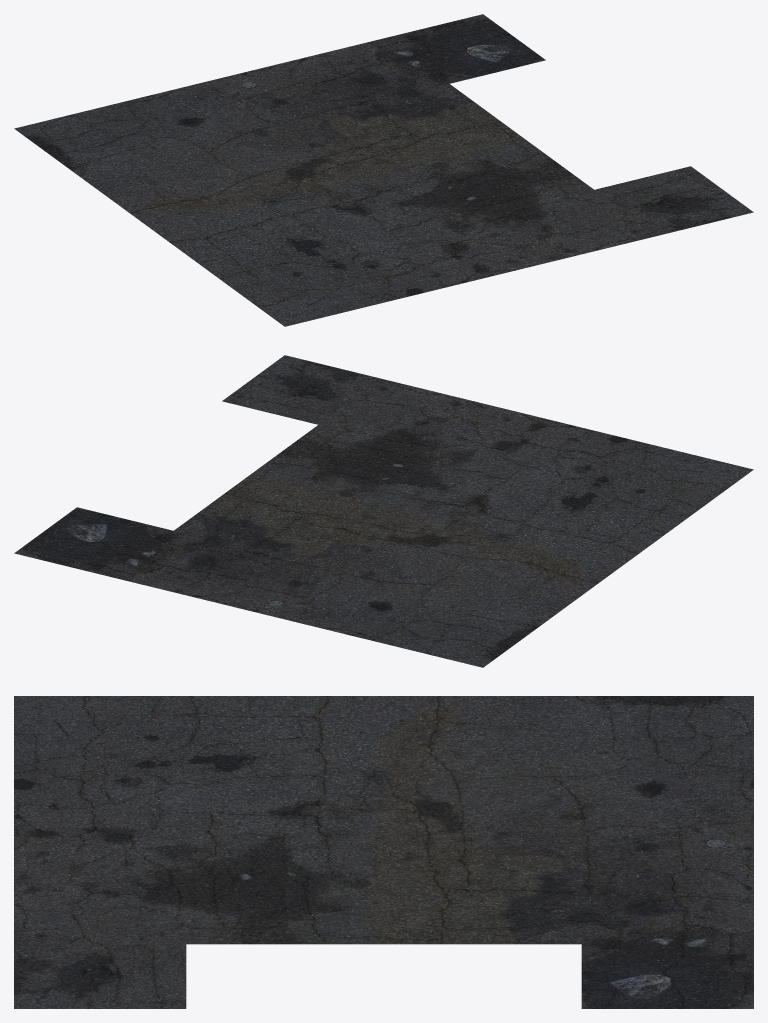
Rendered from UNIConcrete_wall_v1_S_R_2f.glb.
The picture shows the model from 3 angles, top to bottom: view 1: azimuth 30°, elevation 25°; view 2: azimuth 150°, elevation 25°; view 3: azimuth 270°, elevation 25°; orthographic projection. The views are drawn at different scales.
Visible parts, largest first — view 1: UNIConcrete_wall_v1_S_R_2f; view 2: UNIConcrete_wall_v1_S_R_2f; view 3: UNIConcrete_wall_v1_S_R_2f.
Part boxes in pixels (left/top/right/bottom): UNIConcrete_wall_v1_S_R_2f: left=14, top=14, right=753, bottom=326; UNIConcrete_wall_v1_S_R_2f: left=14, top=355, right=753, bottom=667; UNIConcrete_wall_v1_S_R_2f: left=14, top=696, right=753, bottom=1008.
Bounding box in the file's own units: 10 × 0 × 10.
1 material, 1 textured.
